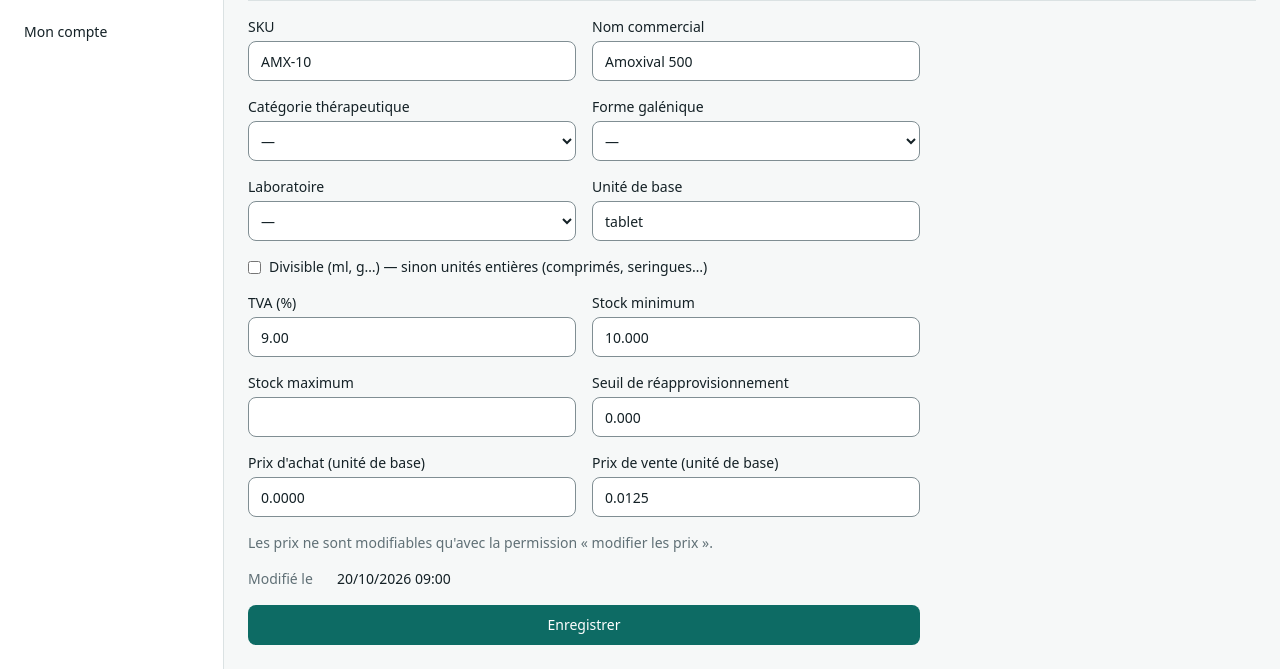
it: product pages › offers to reload after a concurrent change and archives
(page scrolled)
Click the button "Enregistrer".
click(584, 625)  # box top-left (248, 605), bottom-right (920, 645)
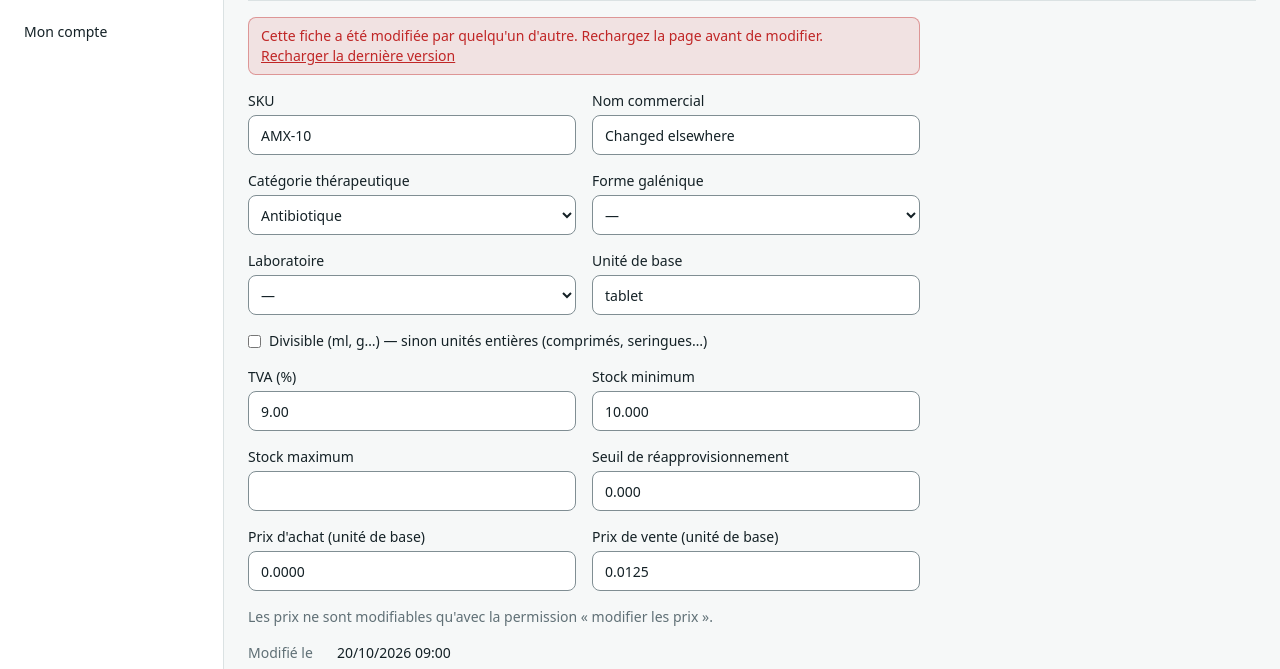
Click the button "Recharger la dernière version".
click(358, 56)  # box top-left (261, 46), bottom-right (455, 66)
(page scrolled)
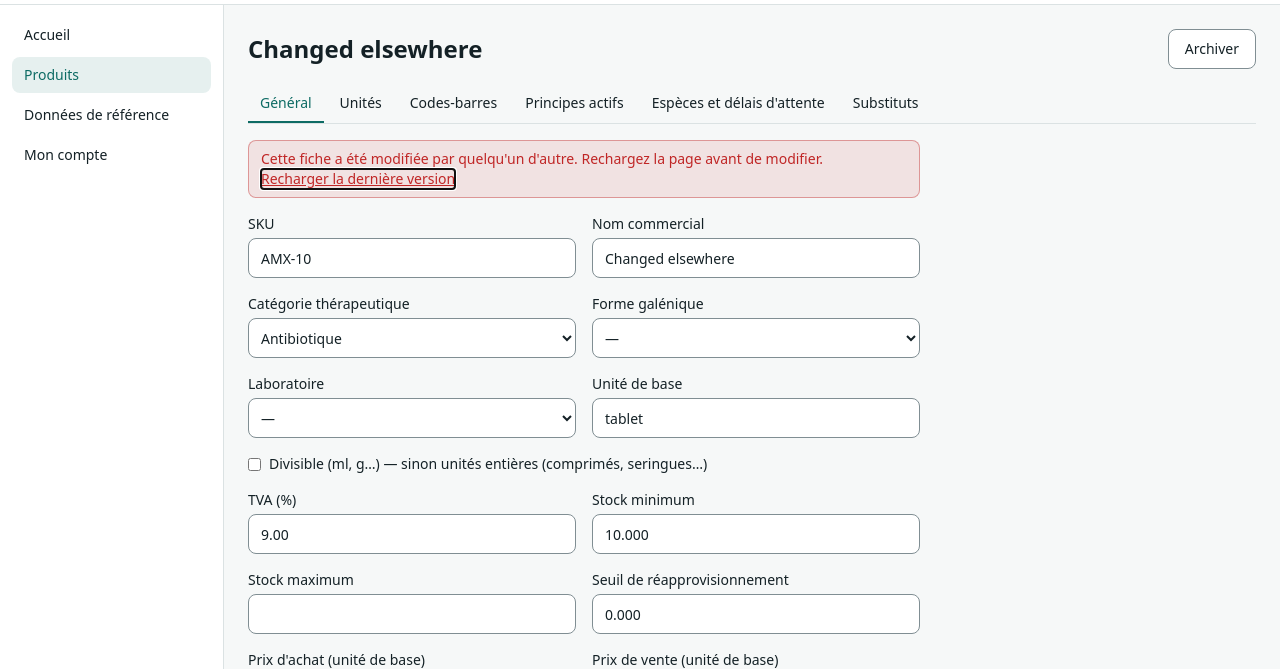
Now the field showing "Changed elsewhere" is shown, box top-left (592, 238), bottom-right (920, 278)
Click the button "Archiver".
click(1212, 49)  # box top-left (1168, 29), bottom-right (1256, 69)
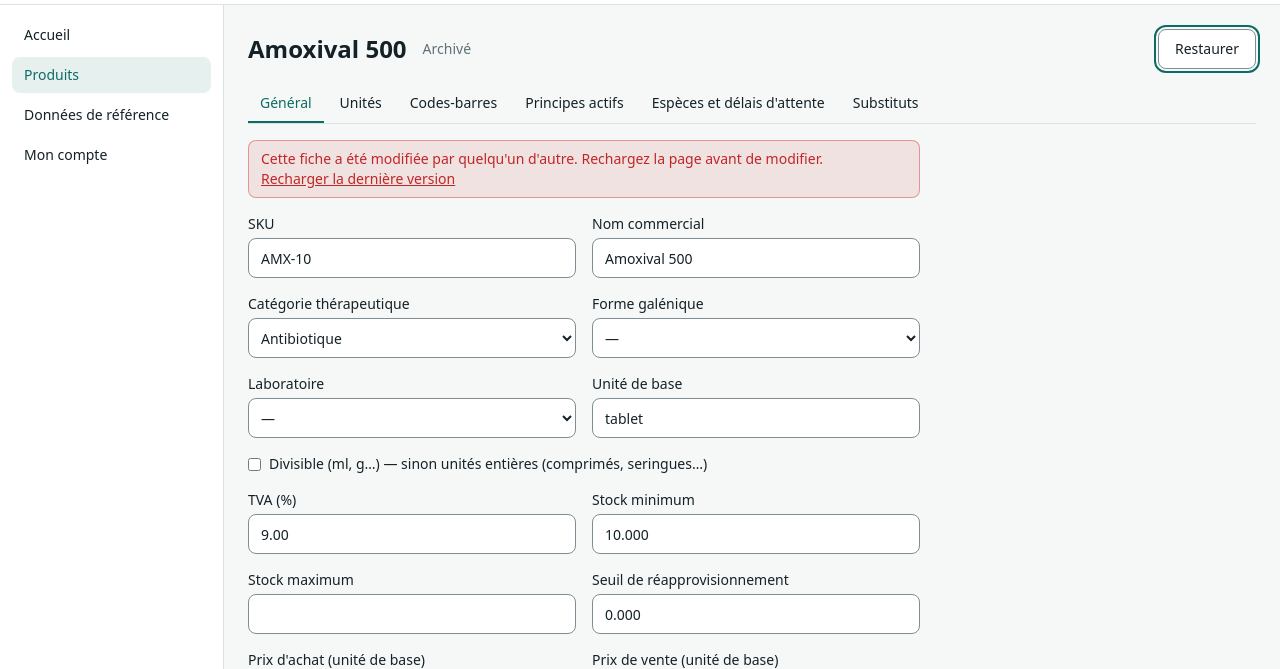
Now the button "Restaurer" is shown, box top-left (1158, 29), bottom-right (1256, 69)
